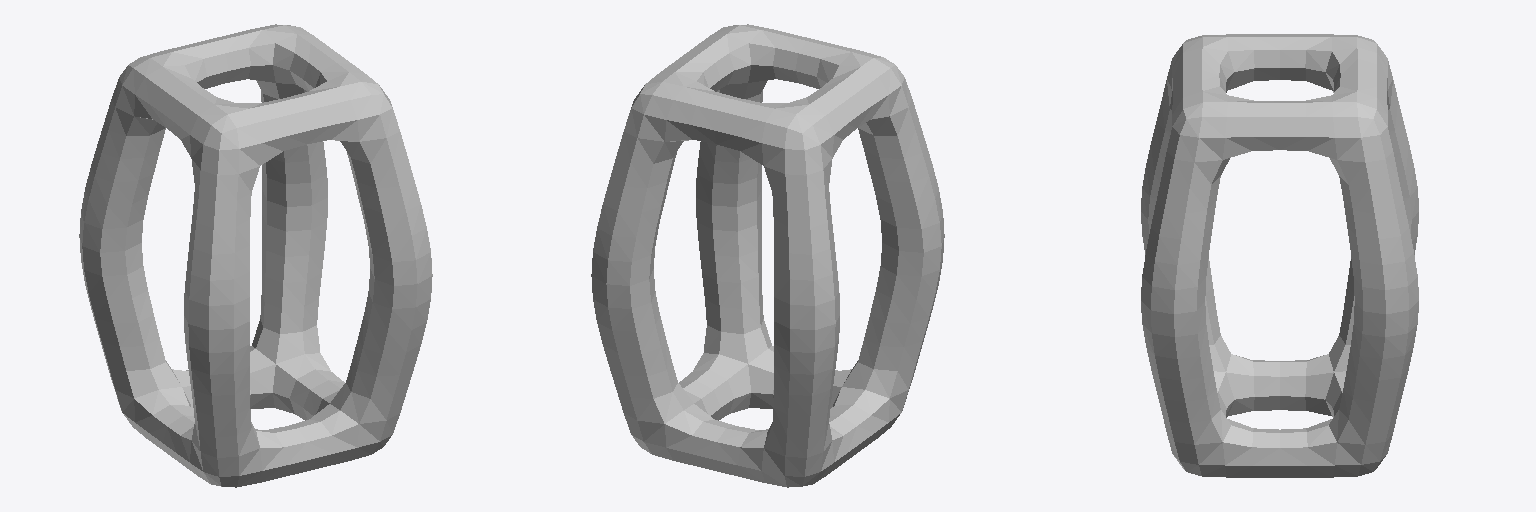
File: lightbox.obj
The picture shows the model from 3 angles: view 1: azimuth 30°, elevation 25°; view 2: azimuth 150°, elevation 25°; view 3: azimuth 270°, elevation 25°; orthographic projection.
Visible parts, largest first — view 1: Cube; view 2: Cube; view 3: Cube.
Part boxes in pixels (bbox=[...]): Cube: bbox=[79, 24, 432, 487]; Cube: bbox=[591, 24, 944, 487]; Cube: bbox=[1141, 34, 1418, 477].
Size of the model in its own units: 2.68 by 3.96 by 2.68.